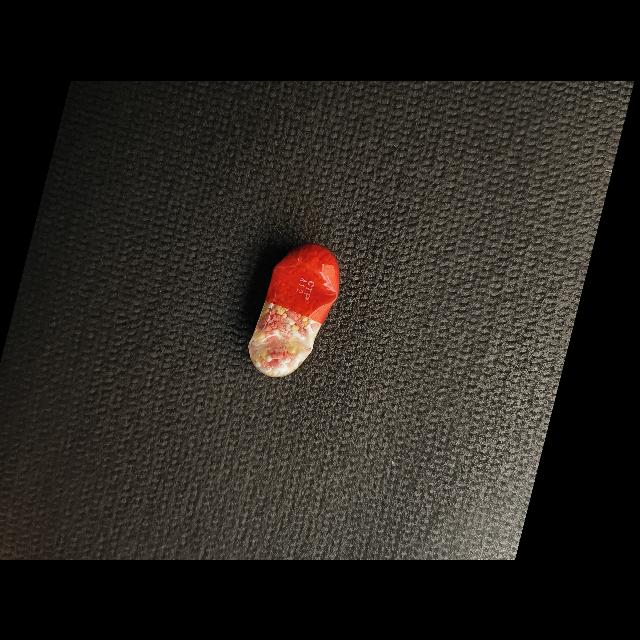Defective Capsule: (248, 243, 339, 377)
